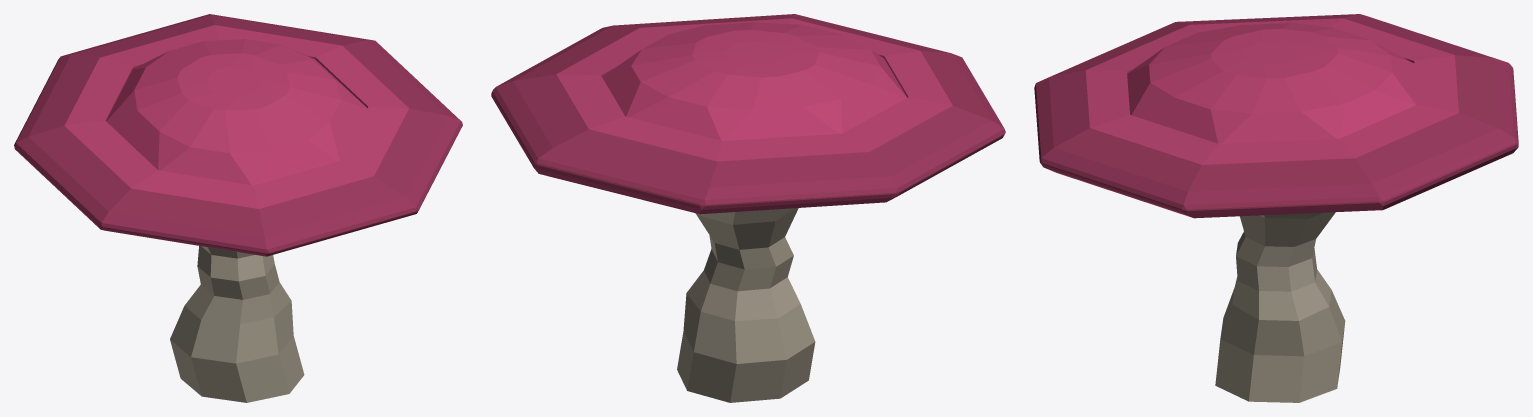
Rendered from biobloom_fauna_mushroomtwo.fbx.
3 renders of one model, left to right at view 1: azimuth 30°, elevation 25°; view 2: azimuth 150°, elevation 25°; view 3: azimuth 270°, elevation 25°, orthographic. The views are drawn at different scales.
Parts seen in each view (by area): view 1: MushroomCapCombined; view 2: MushroomCapCombined; view 3: MushroomCapCombined.
Part boxes in pixels (x1,y1,x2,y2): MushroomCapCombined: (14, 14, 462, 402); MushroomCapCombined: (491, 14, 1005, 402); MushroomCapCombined: (1034, 14, 1518, 402).
Size of the model in its own units: 1181 by 906 by 1236.
